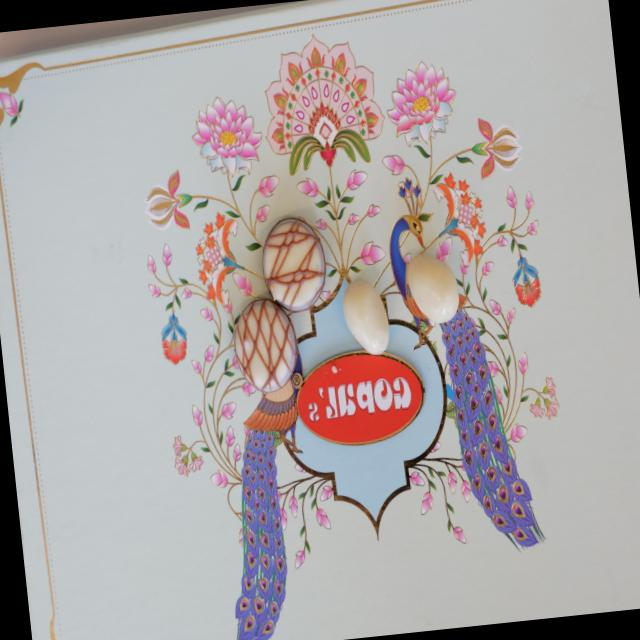Creme_brulee: (258, 216, 328, 314), (230, 296, 300, 394)
Jelly_White: (403, 250, 459, 324), (340, 278, 390, 358)
